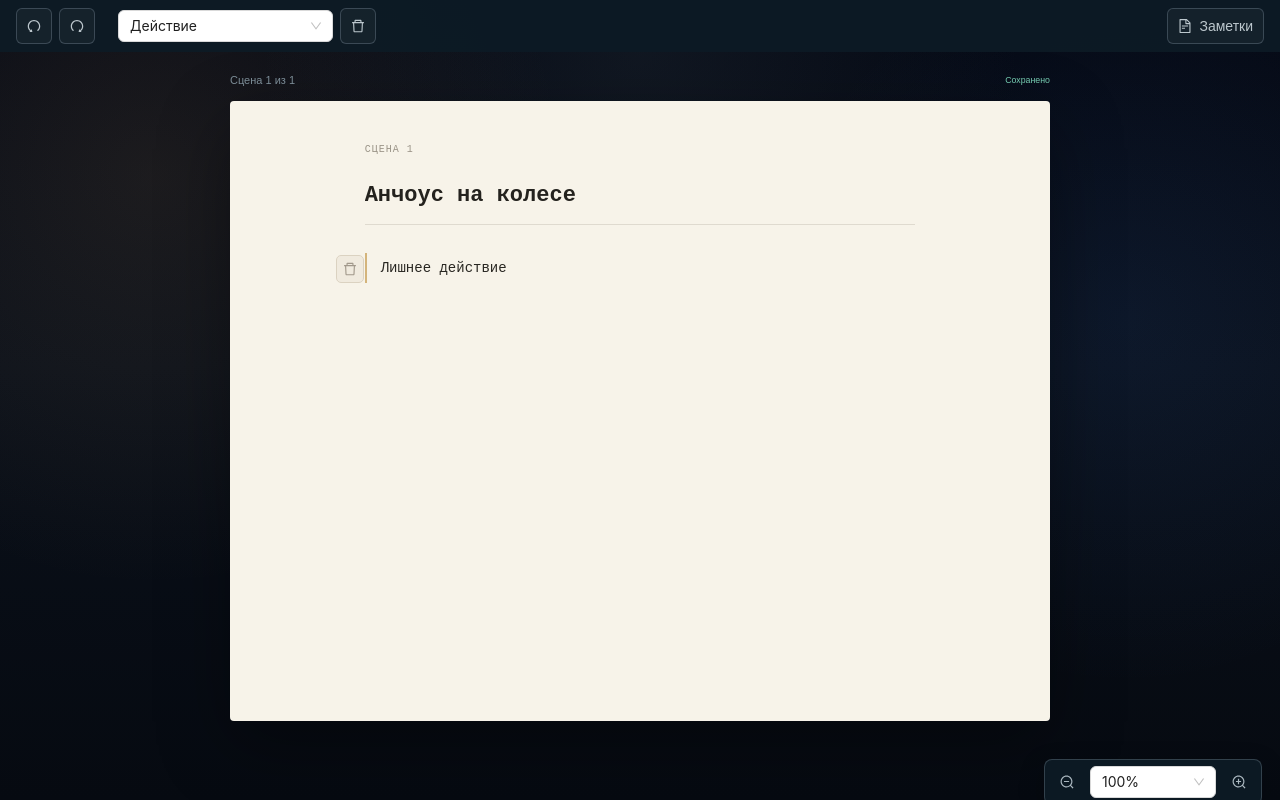
Test: deletes an accidentally added block from the page
The image size is (1280, 800).
Click the button named "Удалить абзац «Действие»": (350, 269) [336, 255, 364, 283]
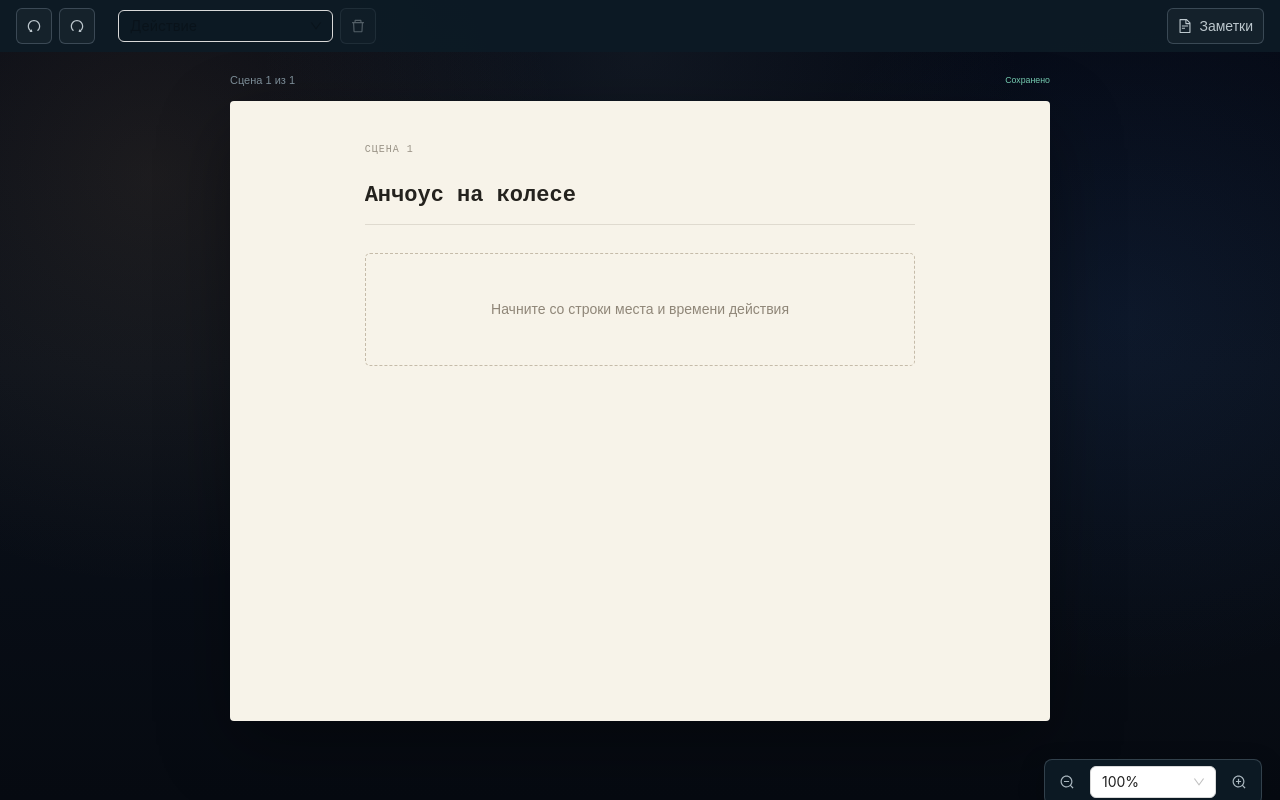
Now the button "Начните со строки места и времени действия" is shown, box [365, 253, 915, 366]
